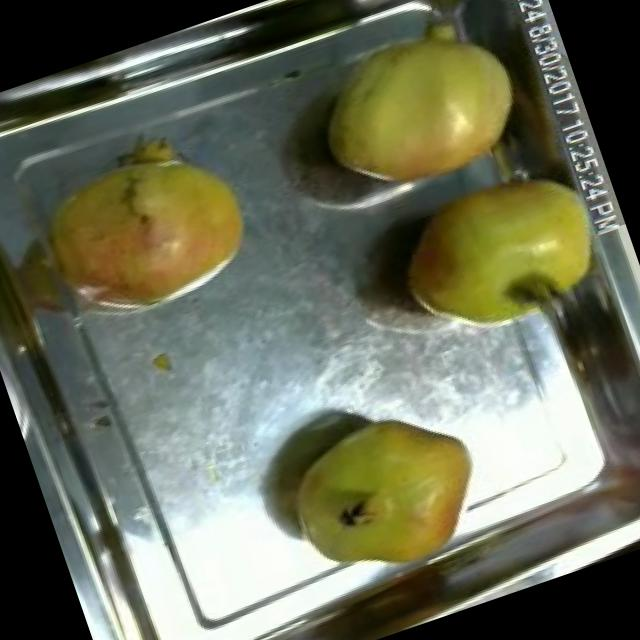fruit: (0, 101, 283, 352), (365, 139, 640, 369), (285, 0, 545, 227), (255, 382, 511, 610)
